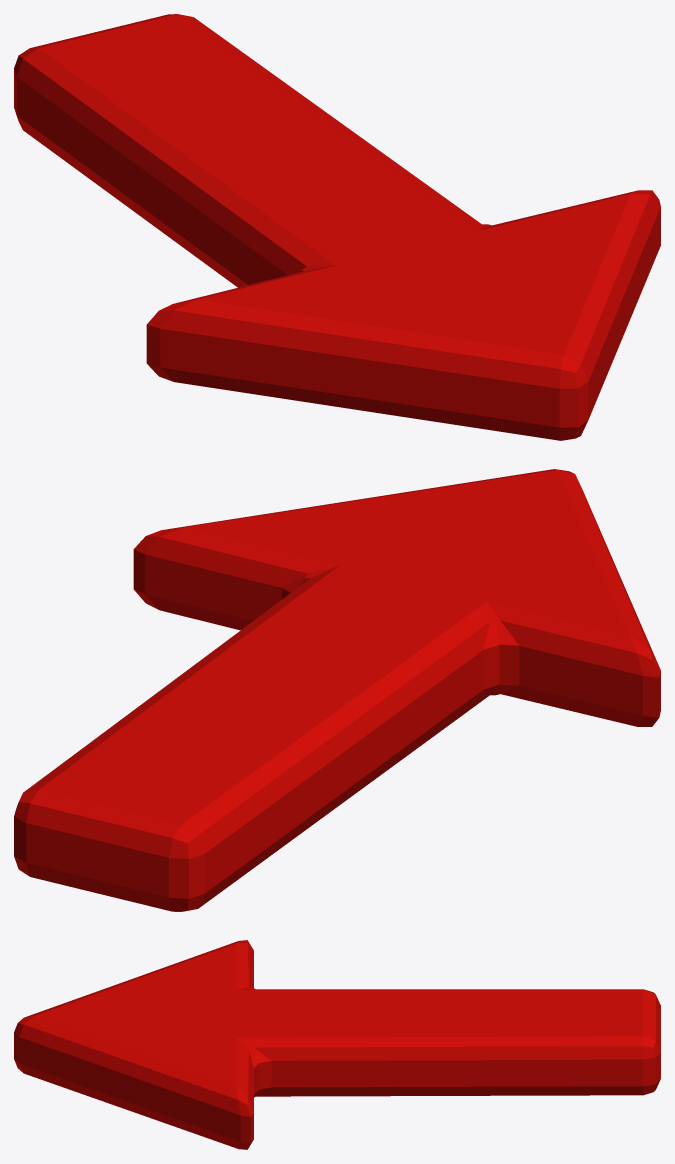
Rendered from arrow.fbx.
3 views of the same model, one above another, from view 1: azimuth 30°, elevation 25°; view 2: azimuth 150°, elevation 25°; view 3: azimuth 270°, elevation 25° (orthographic). The views are drawn at different scales.
Parts seen in each view (by area): view 1: Plane; view 2: Plane; view 3: Plane.
Part boxes in pixels (bbox=[...]): Plane: bbox=[14, 14, 660, 440]; Plane: bbox=[14, 469, 660, 911]; Plane: bbox=[14, 940, 660, 1149].
Size of the model in its own units: 231 by 36.74 by 369.
